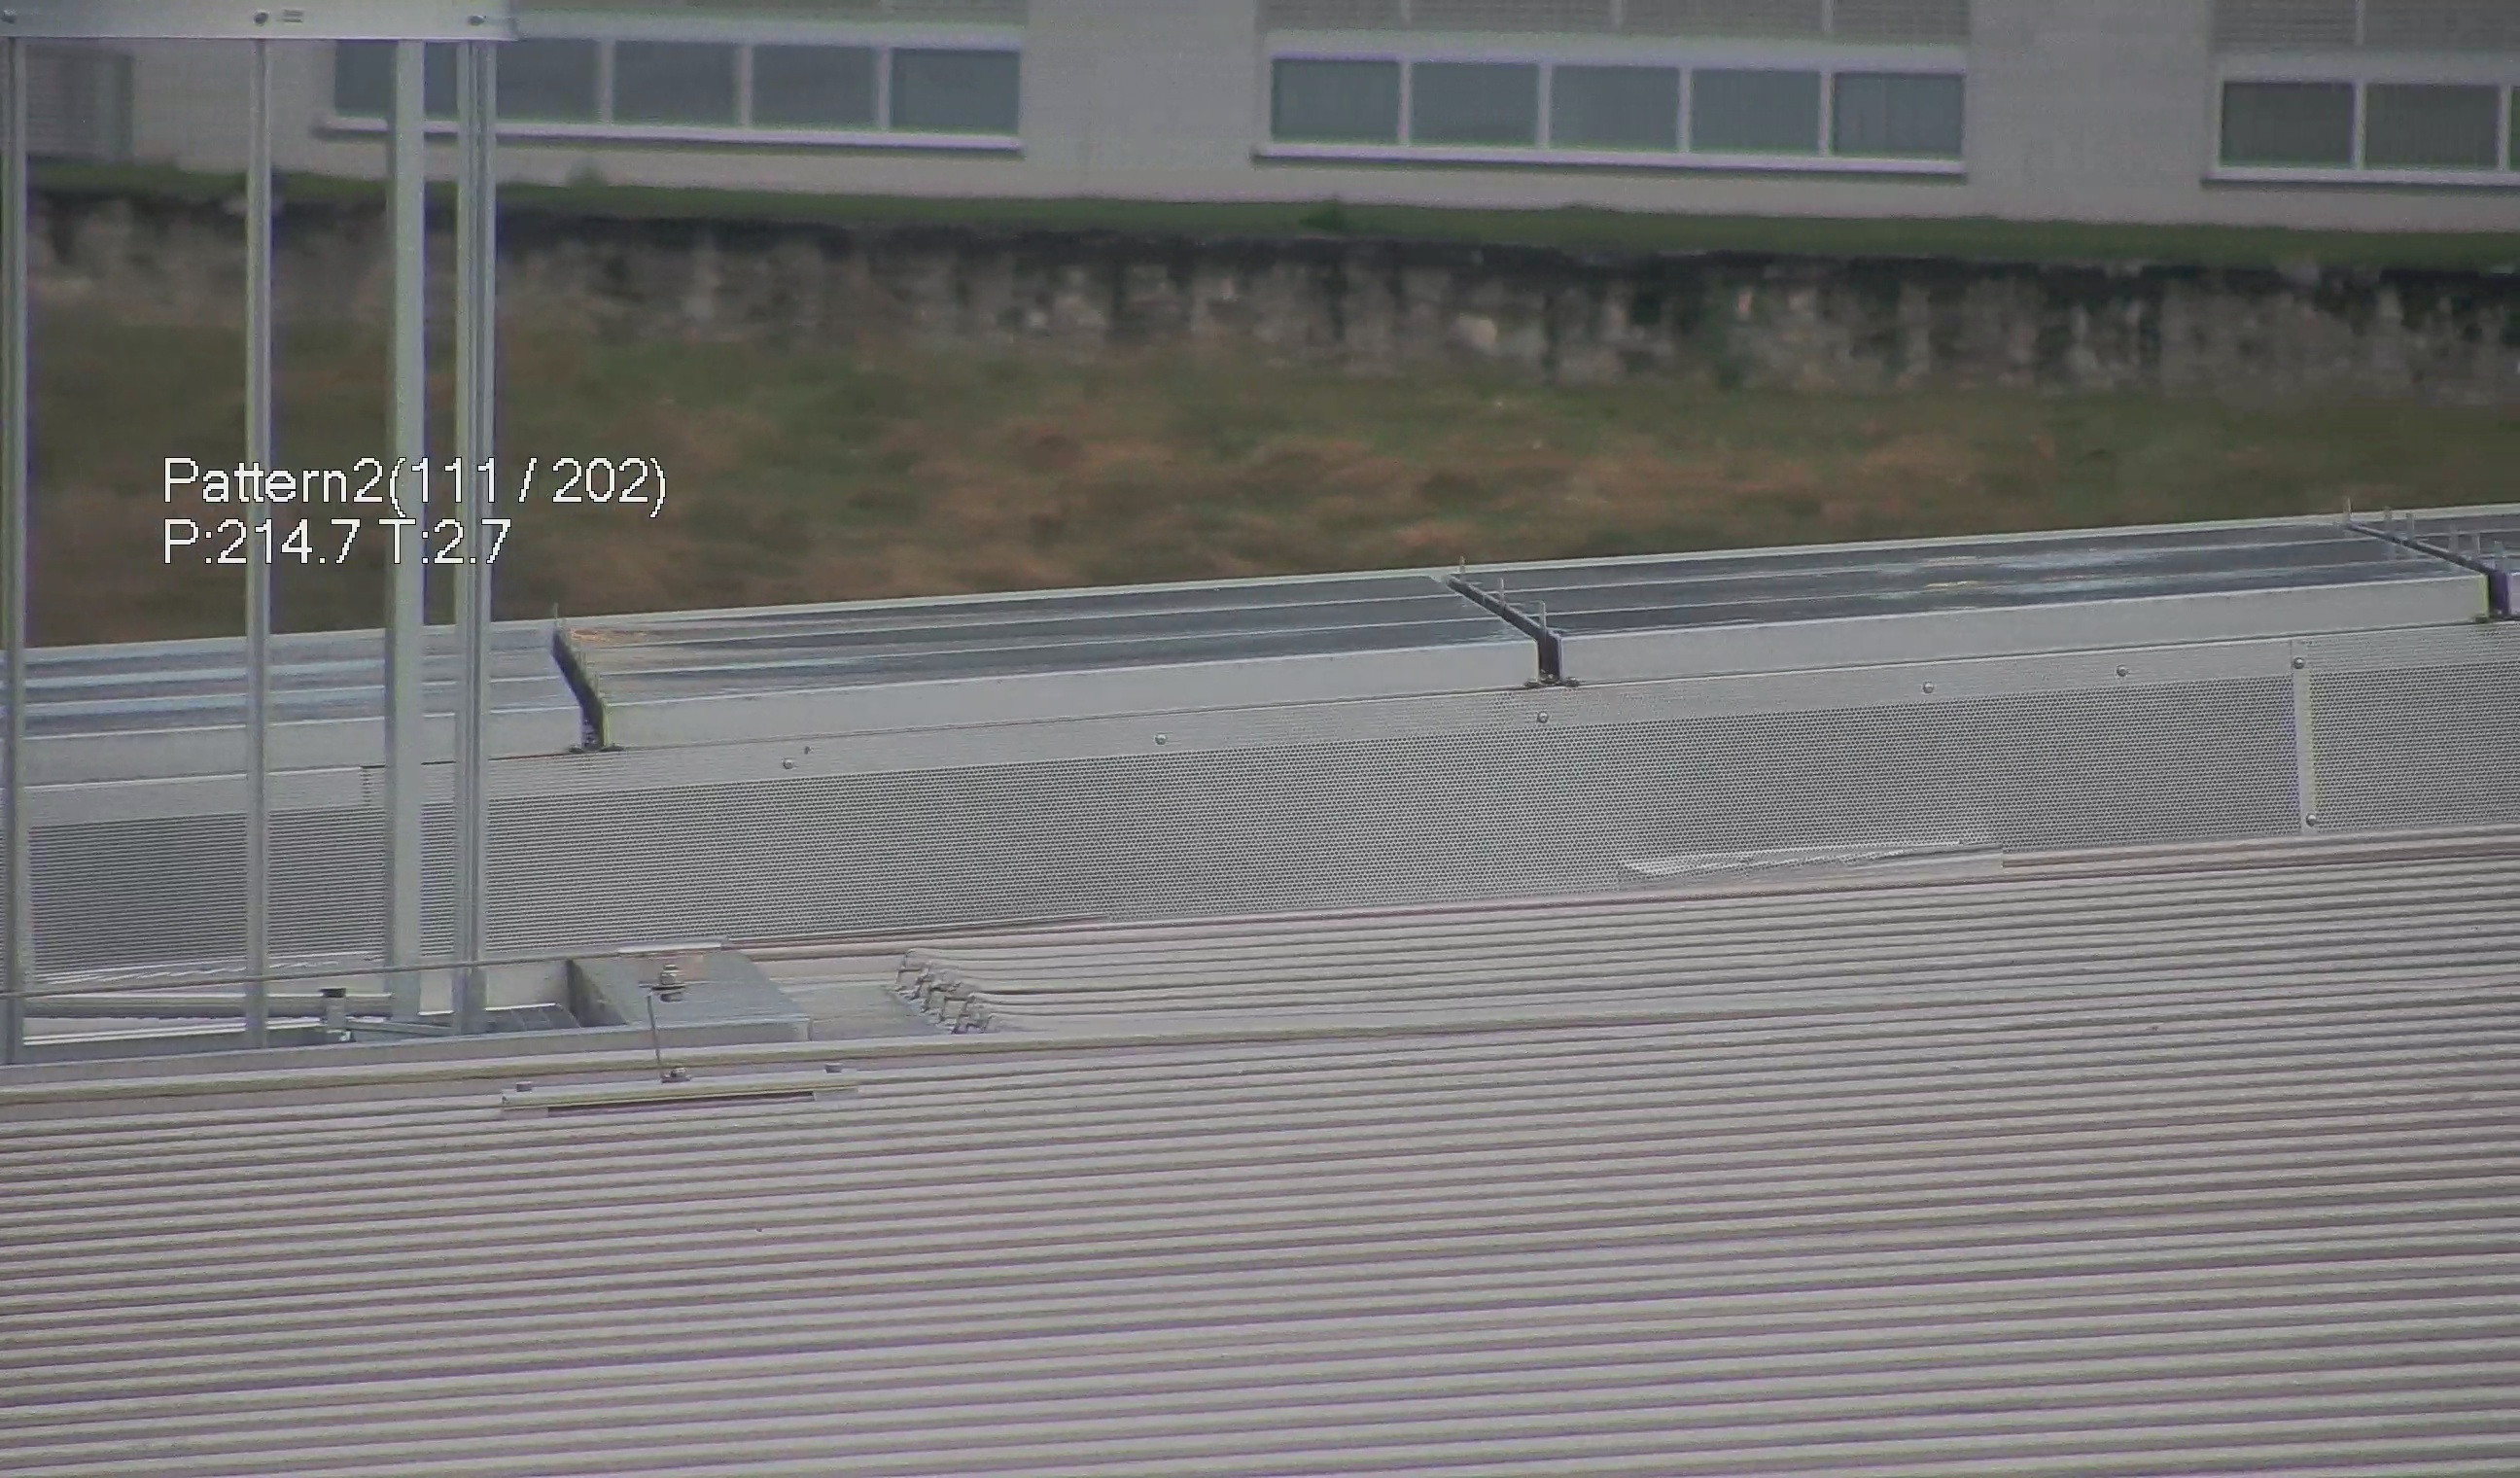Other: (535, 611, 621, 753)
